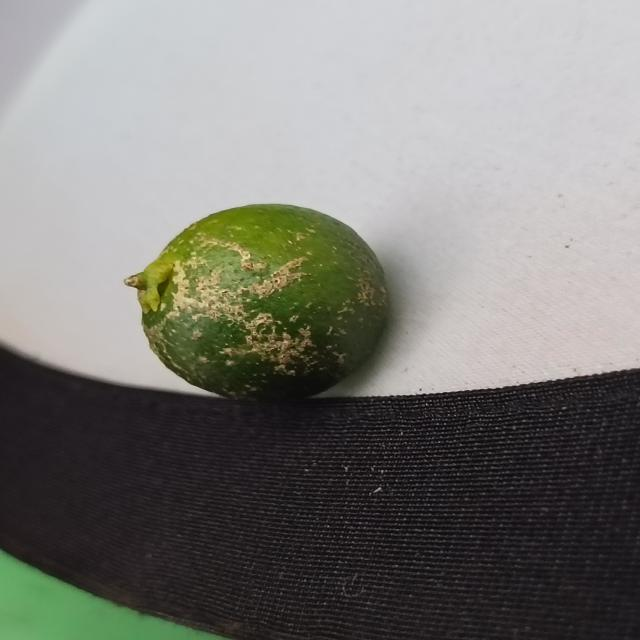scab: (132, 200, 393, 408)
